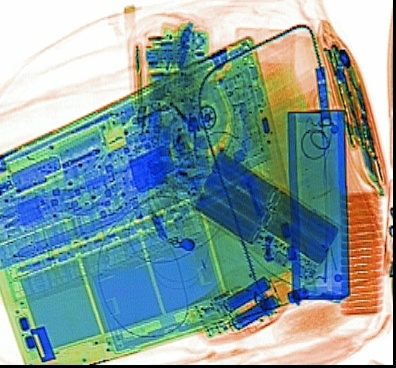powerbank: (186, 142, 345, 284)
